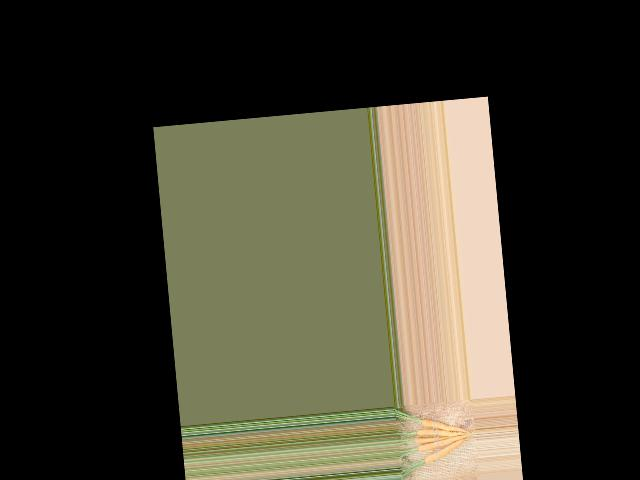carrot: (420, 415, 464, 435)
